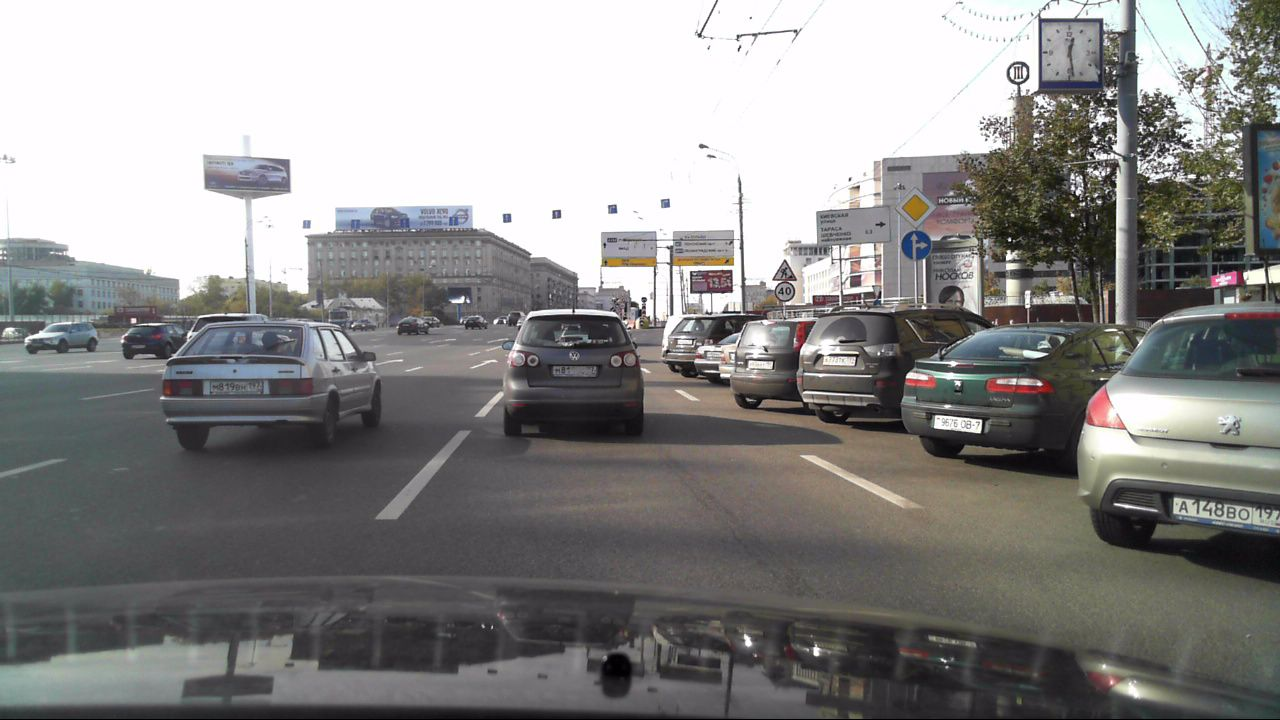speed_warning_40: (773, 281, 794, 302)
